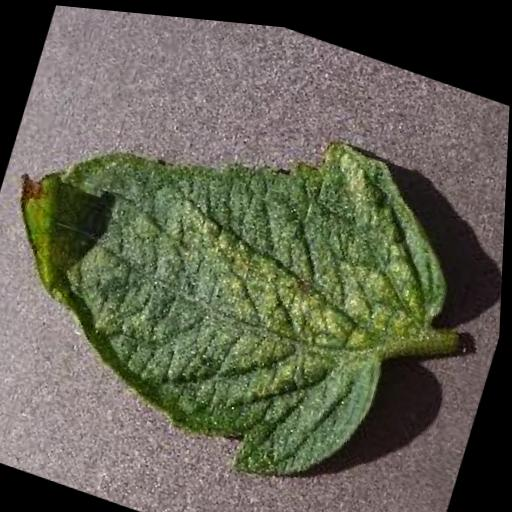Spider Mites: (0, 36, 488, 512)
